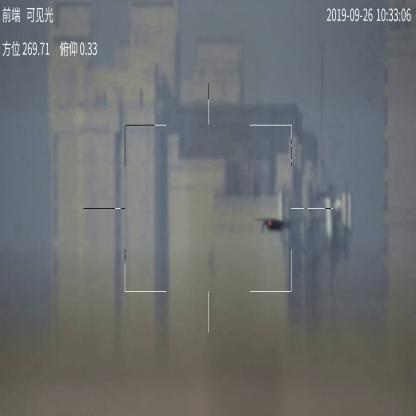uav: (258, 210, 294, 232)
